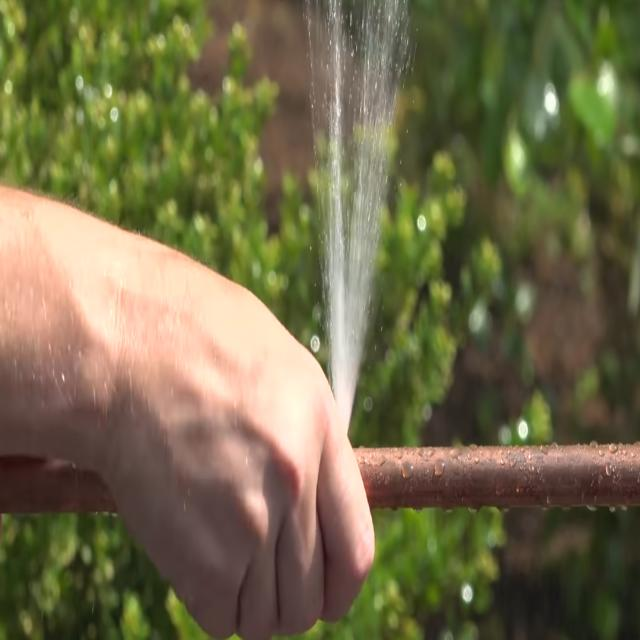leak: (306, 0, 409, 429)
